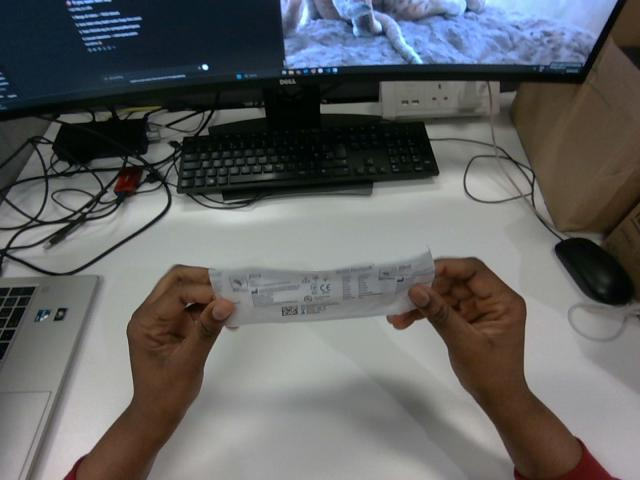syringe: (209, 250, 434, 325)
